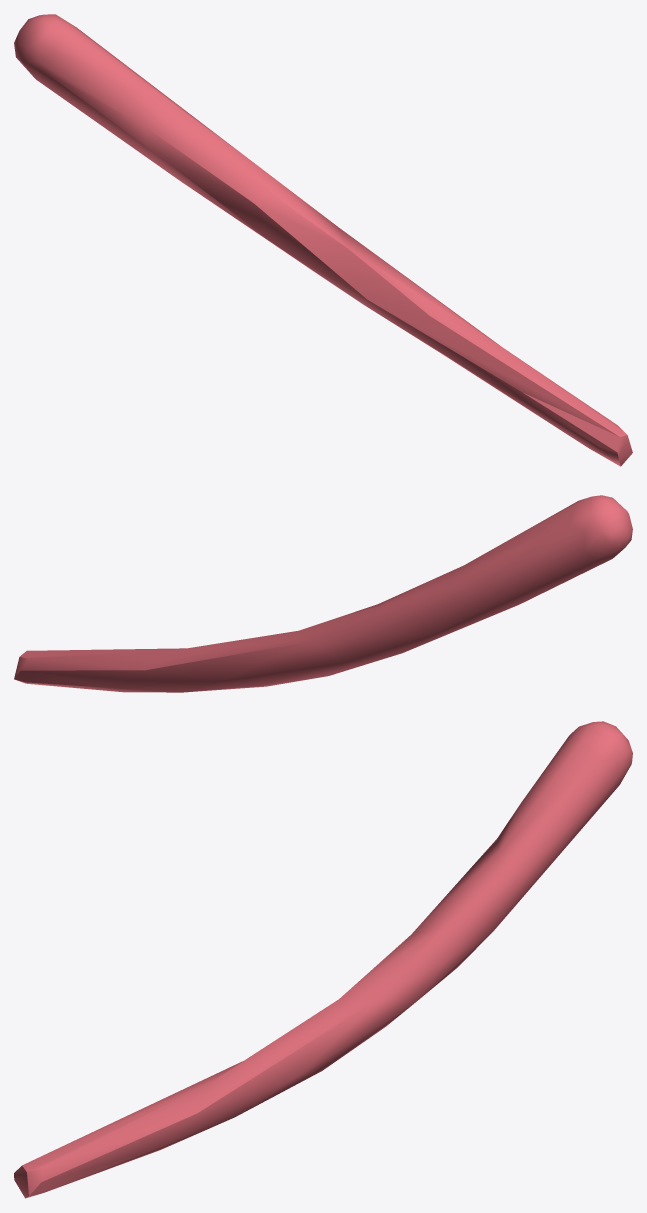
The model's file is fma13289_fj6026.glb.
3 renders of one model, top to bottom at view 1: azimuth 30°, elevation 25°; view 2: azimuth 210°, elevation 25°; view 3: azimuth 270°, elevation 25°, orthographic. The views are drawn at different scales.
Visible parts, largest first — view 1: FMA13289_FJ6026; view 2: FMA13289_FJ6026; view 3: FMA13289_FJ6026.
Boxes of the visible parts, x1=… form: FMA13289_FJ6026: x1=14, y1=14, x2=632, y2=466; FMA13289_FJ6026: x1=14, y1=495, x2=632, y2=692; FMA13289_FJ6026: x1=14, y1=721, x2=632, y2=1198.
Bounding box in the file's own units: 0.0166 × 0.015 × 0.0257.
